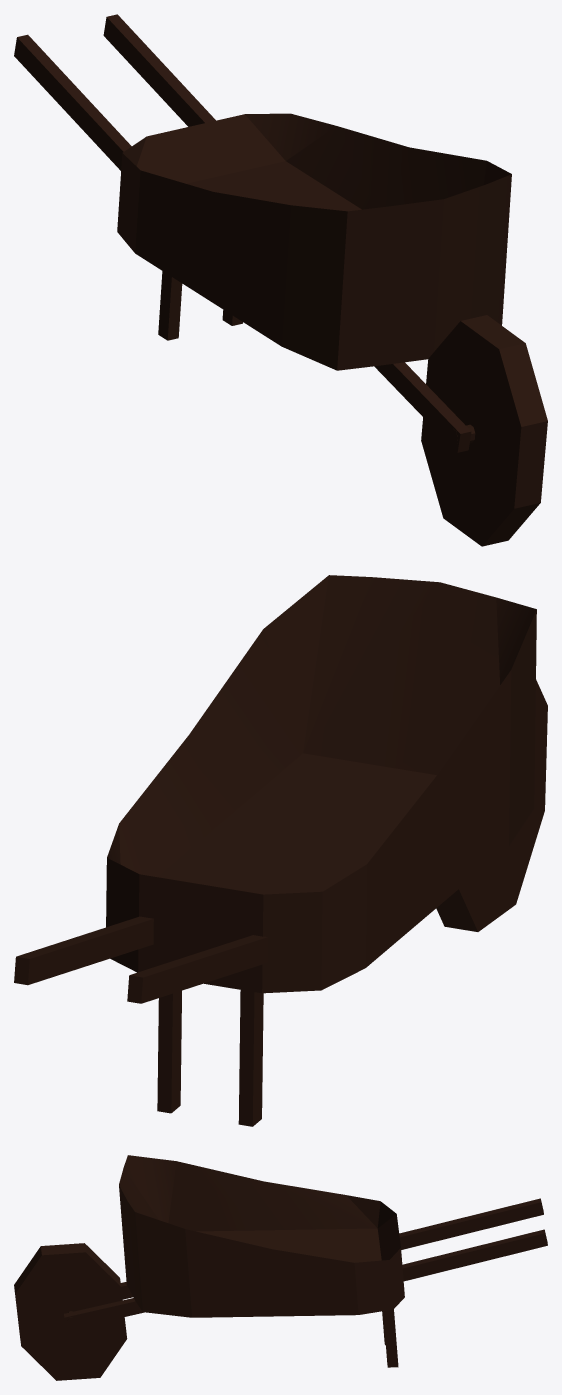
The model's file is Brouette.fbx.
3 views of the same model, one above another, from view 1: azimuth 30°, elevation 25°; view 2: azimuth 150°, elevation 25°; view 3: azimuth 270°, elevation 25° (orthographic). The views are drawn at different scales.
Visible parts, largest first — view 1: Brouette; view 2: Brouette; view 3: Brouette.
Boxes of the visible parts, <box> form: Brouette: <box>14,14,547,546</box>; Brouette: <box>14,575,547,1126</box>; Brouette: <box>14,1155,547,1380</box>.
Size of the model in its own units: 15.36 by 20.92 by 52.1.
